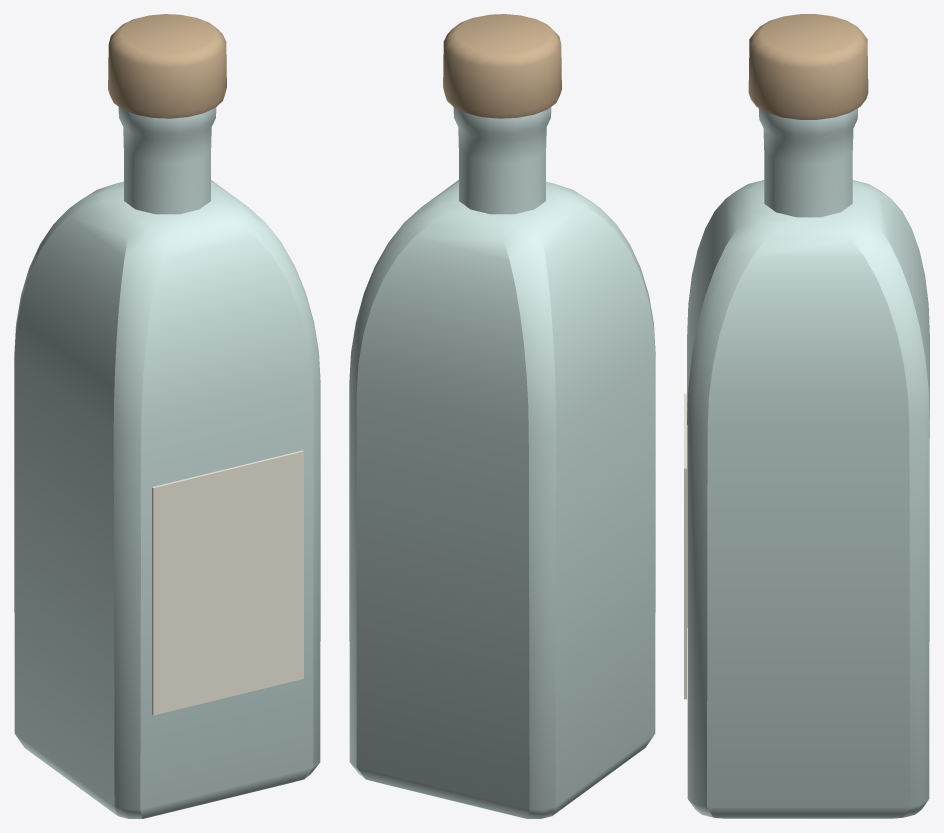
The model's file is container_square_lod1.glb.
3 views of the same model, side by side, from view 1: azimuth 30°, elevation 25°; view 2: azimuth 150°, elevation 25°; view 3: azimuth 270°, elevation 25° (orthographic).
Parts seen in each view (by area): view 1: Glass, Label, Cap; view 2: Glass, Cap; view 3: Glass, Cap, Label.
Part boxes in pixels (x1=…): Glass: x1=14, y1=107, x2=320, y2=818; Label: x1=152, y1=450, x2=303, y2=715; Cap: x1=108, y1=14, x2=226, y2=118; Glass: x1=349, y1=107, x2=655, y2=818; Cap: x1=443, y1=14, x2=561, y2=118; Glass: x1=687, y1=108, x2=929, y2=818; Cap: x1=748, y1=14, x2=868, y2=119; Label: x1=684, y1=393, x2=686, y2=699.
Size of the model in its own units: 0.0714 by 0.2415 by 0.0723.
